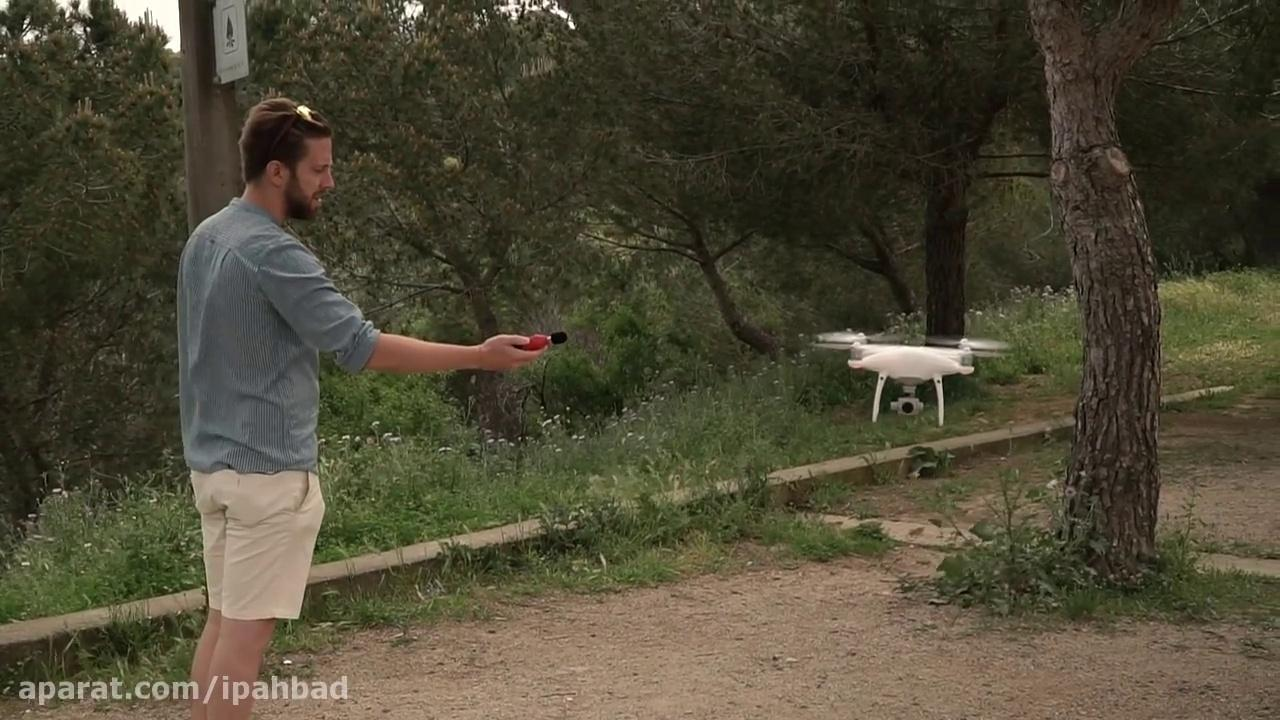drone: (813, 331, 1015, 425)
